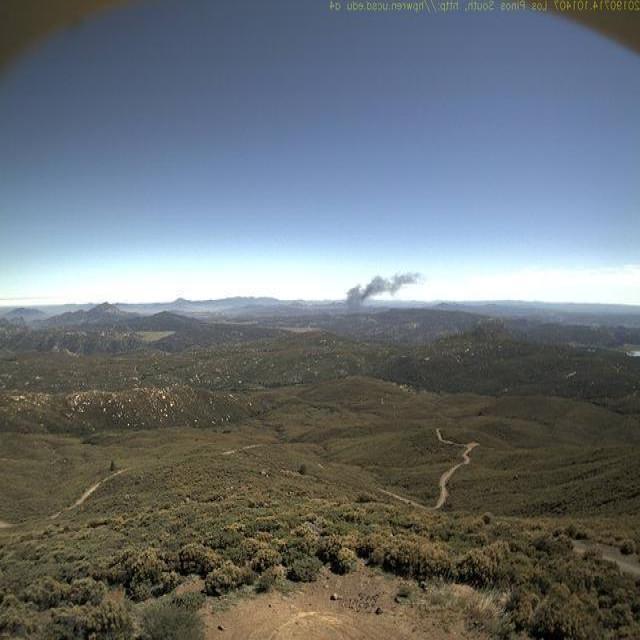Smoke: (343, 262, 429, 318)
